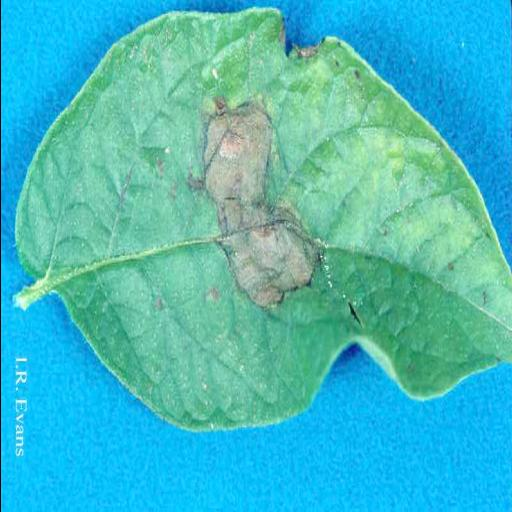disease_tomato: (13, 4, 511, 436)
